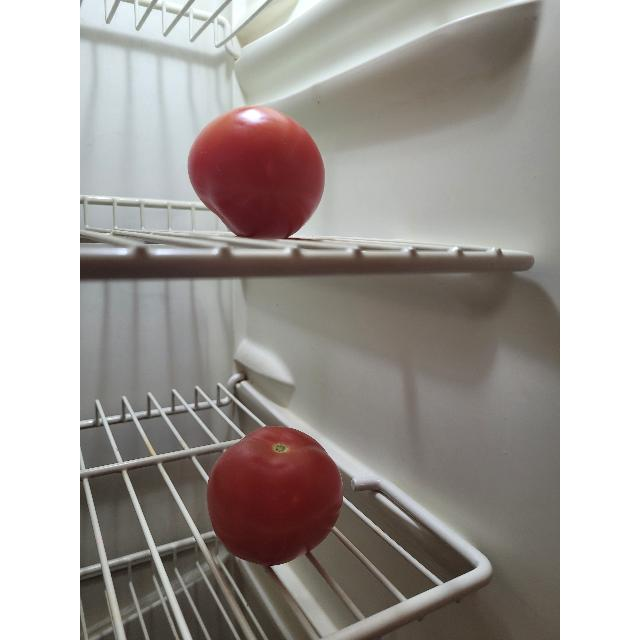tomato: (206, 424, 346, 566), (185, 103, 329, 239)
